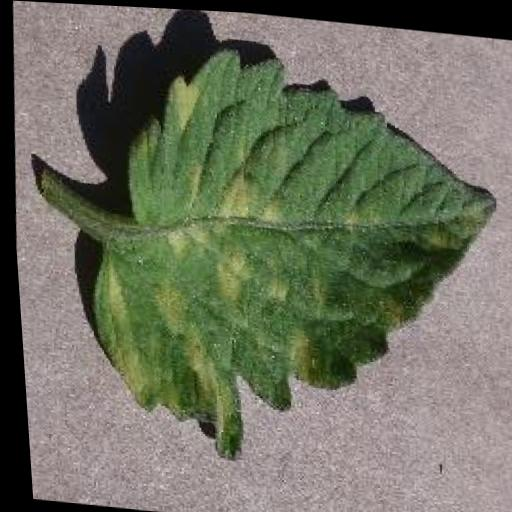Leaf Mold: (69, 31, 512, 483)
